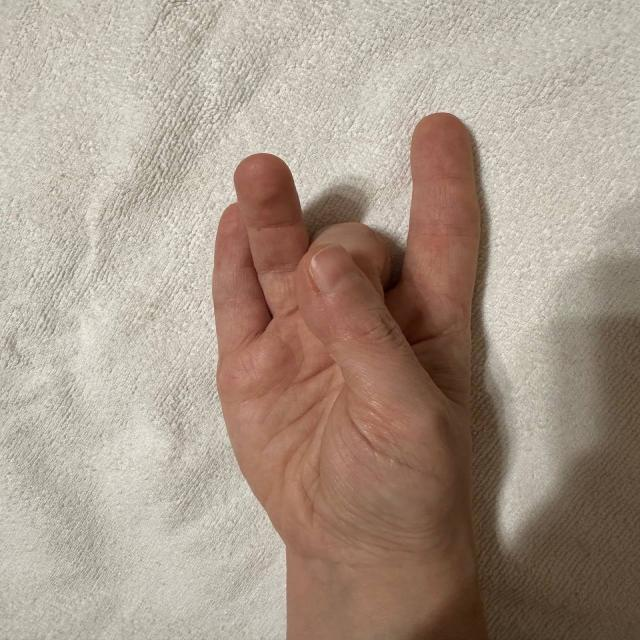r: (189, 110, 549, 538)
